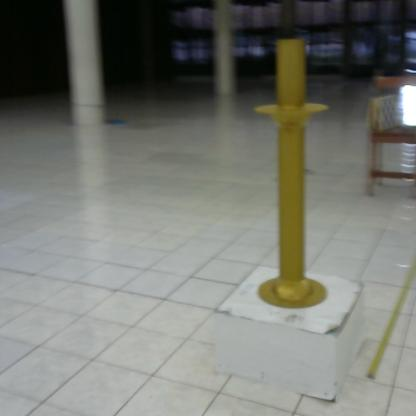pole: (246, 32, 340, 321)
